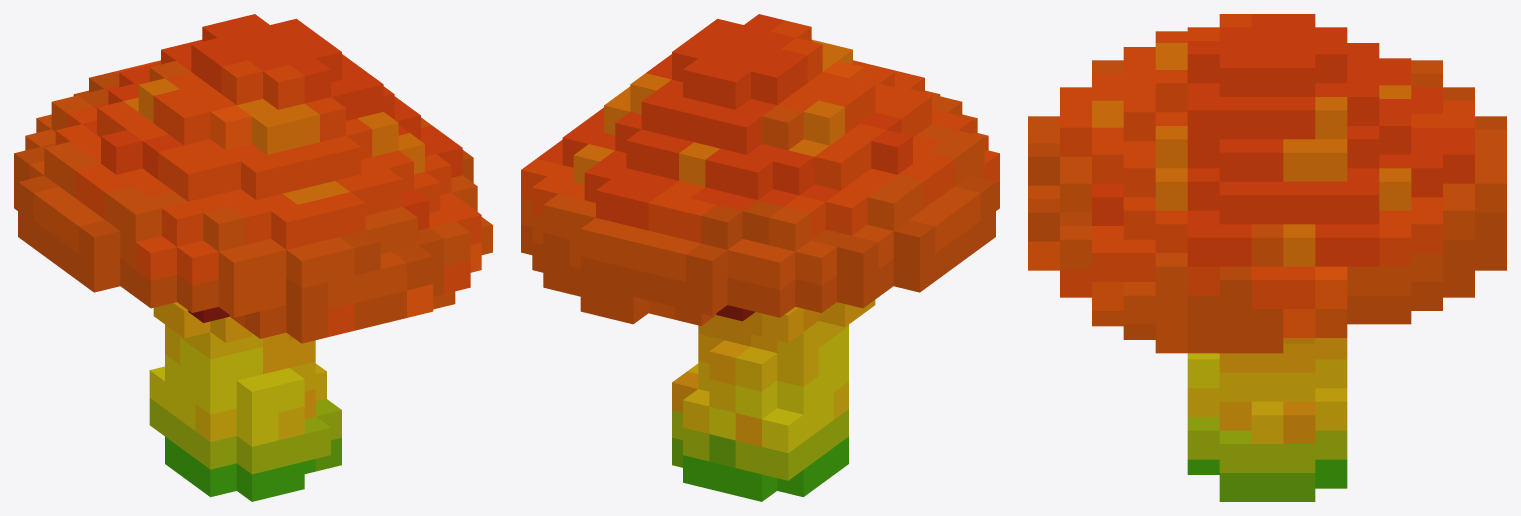
The model's file is overseer-mushroom-2-named-nodes.glb.
3 renders of one model, left to right at view 1: azimuth 30°, elevation 25°; view 2: azimuth 150°, elevation 25°; view 3: azimuth 270°, elevation 25°, orthographic. The views are drawn at different scales.
Parts seen in each view (by area): view 1: geometry_0; view 2: geometry_0; view 3: geometry_0.
Boxes of the visible parts, x1,y1,x2,y2 form: geometry_0: (14,14,492,501); geometry_0: (521,14,999,501); geometry_0: (1028,14,1506,501).
Bounding box in the file's own units: 0.6141 × 0.6141 × 0.6141.
1 material, 1 textured.
